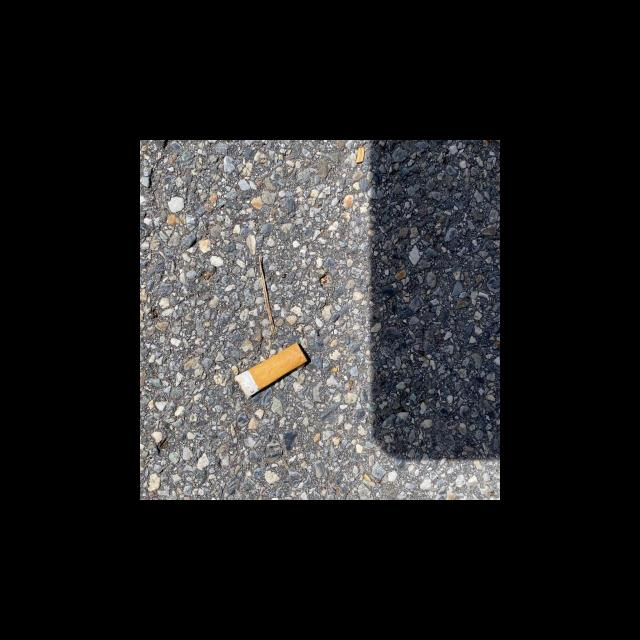cigarette: (234, 342, 308, 399)
